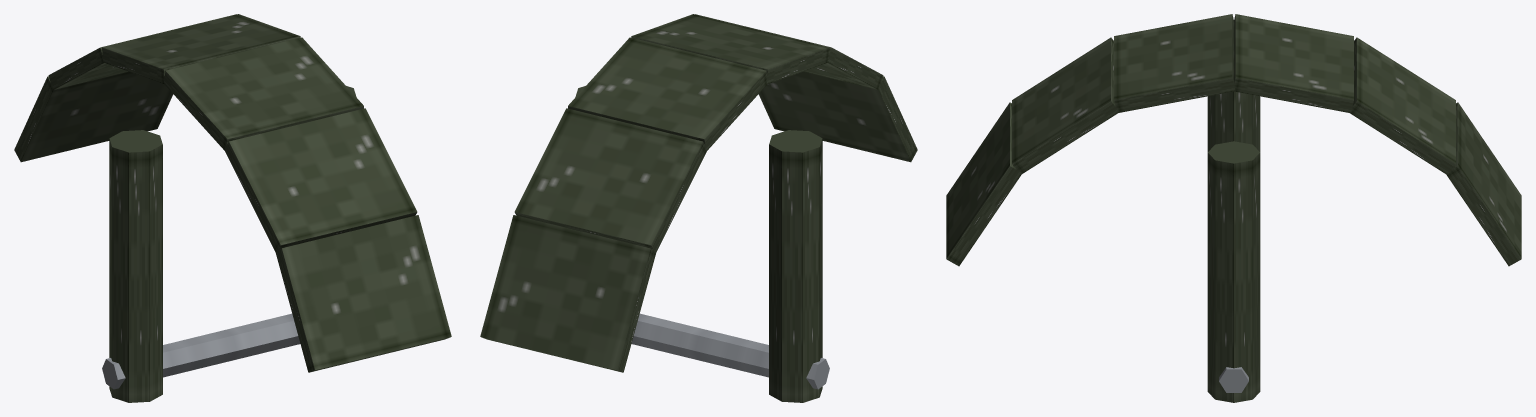
Rendered from pod_scooter_fork.fbx.
3 views of the same model, side by side, from view 1: azimuth 30°, elevation 25°; view 2: azimuth 150°, elevation 25°; view 3: azimuth 270°, elevation 25° (orthographic). The views are drawn at different scales.
Visible parts, largest first — view 1: pod_scooter_fork; view 2: pod_scooter_fork; view 3: pod_scooter_fork.
Part boxes in pixels (x1,y1,x2,y2): pod_scooter_fork: (14,14,451,402); pod_scooter_fork: (480,14,917,402); pod_scooter_fork: (946,14,1521,402).
Bounding box in the file's own units: 21.6 × 26.39 × 45.75.
Materials: 1 (1 with a texture image).
